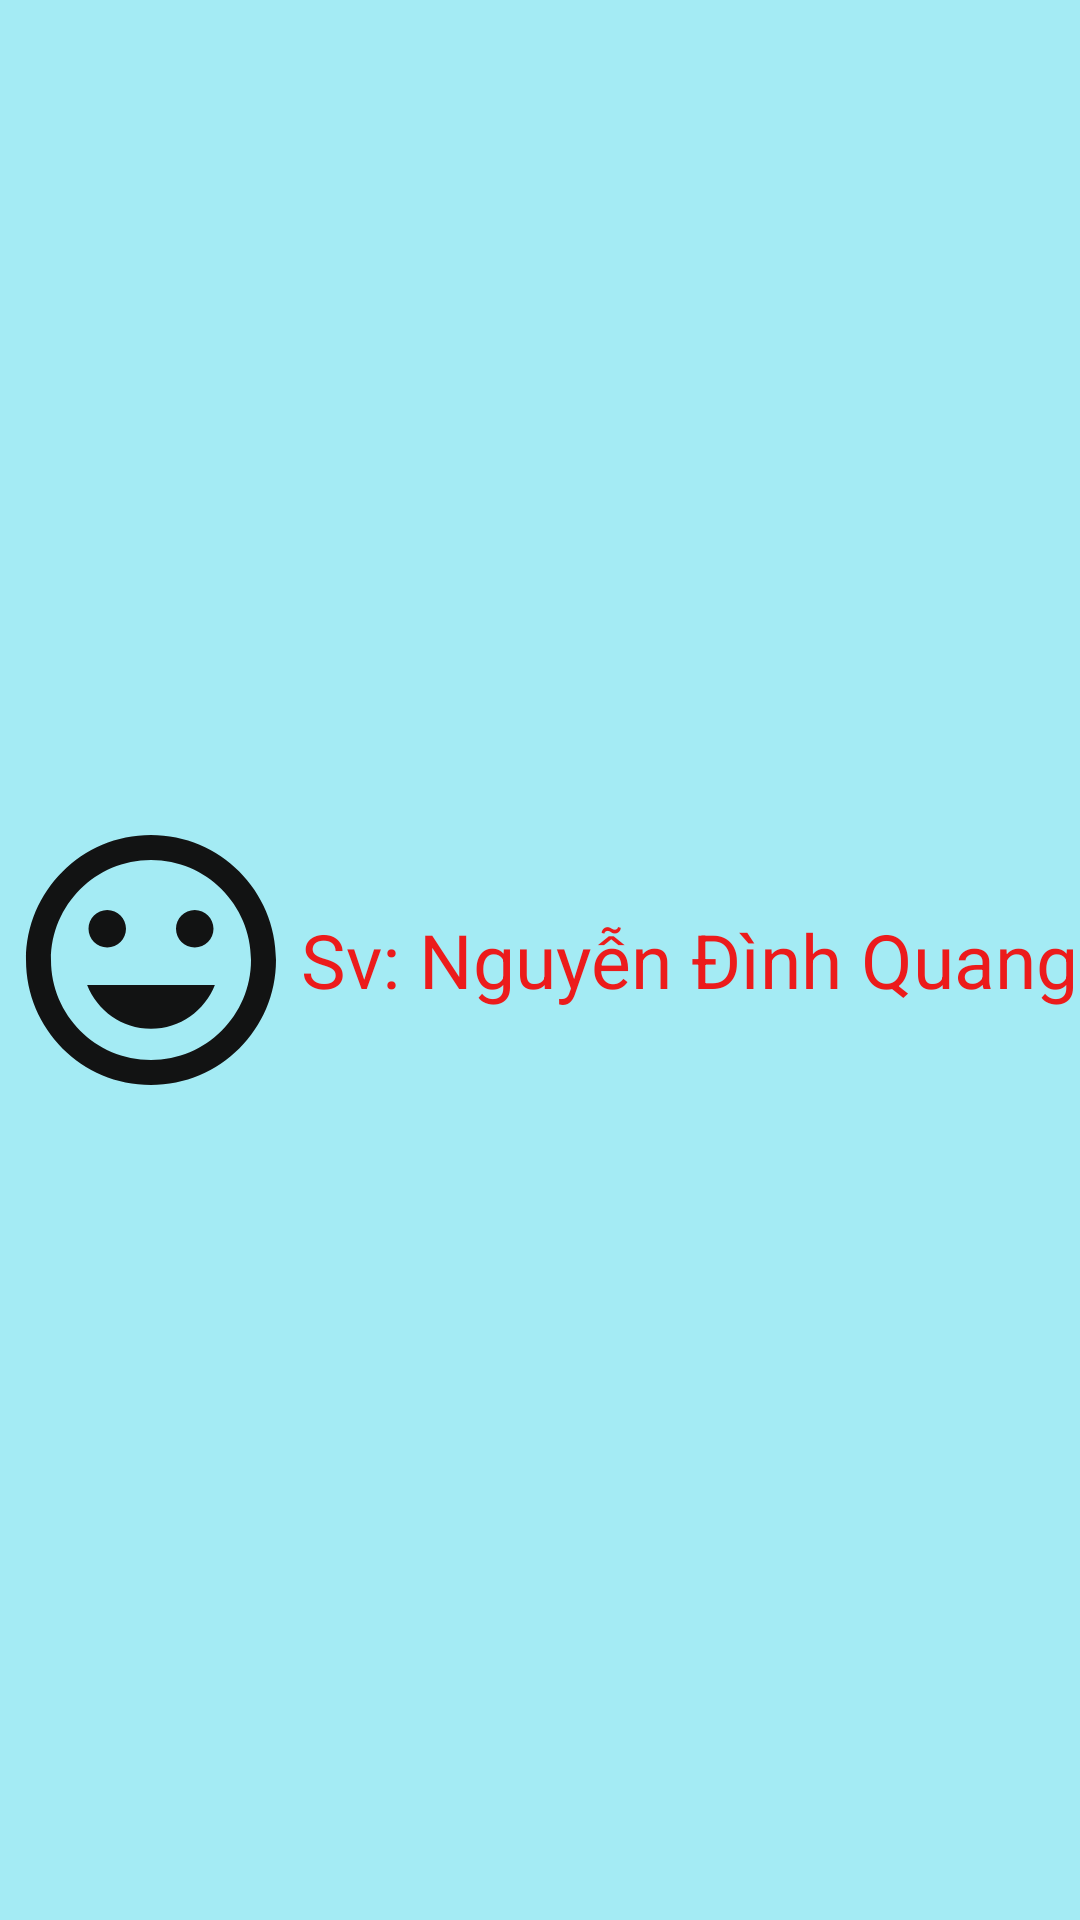

Where icons sit on this 1080 x 1920 app screen, as rect(x1, y1, x2, y2):
insert emoticon: rect(26, 835, 276, 1085)
